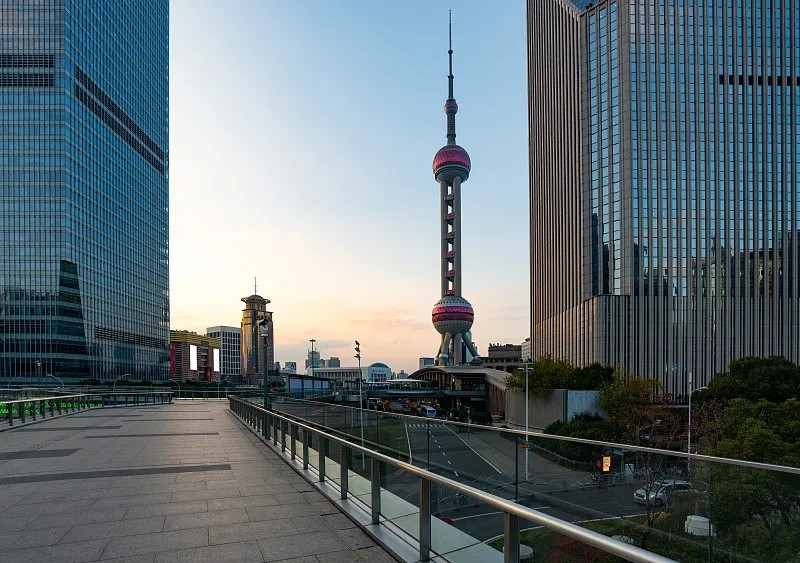Oriental: (433, 10, 481, 365)
